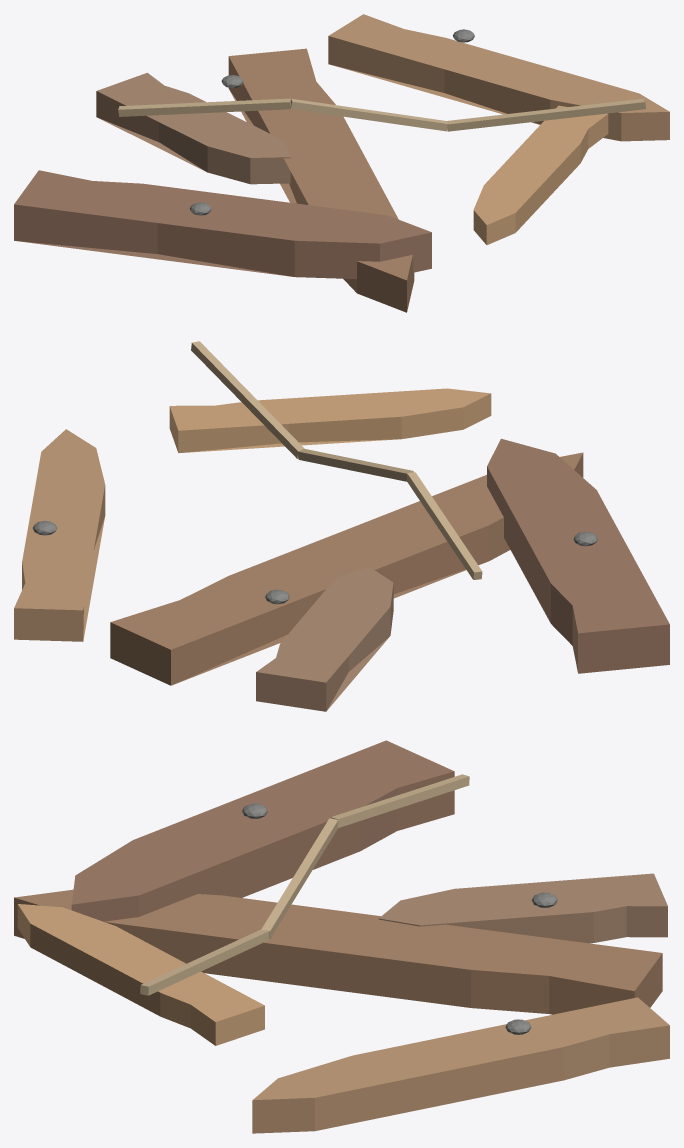
File: floating_plank_cluster.glb
3 views of the same model, one above another, from view 1: azimuth 30°, elevation 25°; view 2: azimuth 150°, elevation 25°; view 3: azimuth 270°, elevation 25° (orthographic). The views are drawn at different scales.
Visible parts, largest first — view 1: Floating_Broken_Plank_3, Floating_Broken_Plank_2, Floating_Broken_Plank_1, Floating_Broken_Plank_5, Floating_Broken_Plank_4, Rope_Segment_2, Rope_Segment_0, Rope_Segment_1; view 2: Floating_Broken_Plank_1, Floating_Broken_Plank_3, Floating_Broken_Plank_2, Floating_Broken_Plank_4, Floating_Broken_Plank_5, Rope_Segment_2, Rope_Segment_0, Rope_Segment_1; view 3: Floating_Broken_Plank_1, Floating_Broken_Plank_3, Floating_Broken_Plank_2, Floating_Broken_Plank_4, Floating_Broken_Plank_5, Rope_Segment_2, Rope_Segment_0, Rope_Segment_1.
Boxes of the visible parts, x1,y1,x2,y2 form: Floating_Broken_Plank_3: (14, 170, 431, 279); Floating_Broken_Plank_2: (328, 14, 669, 141); Floating_Broken_Plank_1: (228, 48, 414, 312); Floating_Broken_Plank_5: (96, 72, 290, 184); Floating_Broken_Plank_4: (473, 105, 608, 244); Rope_Segment_2: (447, 98, 645, 131); Rope_Segment_0: (118, 98, 290, 116); Rope_Segment_1: (290, 98, 448, 131); Floating_Broken_Plank_1: (110, 452, 583, 685); Floating_Broken_Plank_3: (487, 438, 669, 673); Floating_Broken_Plank_2: (14, 429, 105, 641); Floating_Broken_Plank_4: (169, 388, 491, 453); Floating_Broken_Plank_5: (256, 567, 393, 711); Rope_Segment_2: (191, 341, 304, 458); Rope_Segment_0: (406, 472, 482, 579); Rope_Segment_1: (297, 448, 413, 481); Floating_Broken_Plank_1: (14, 889, 662, 1014); Floating_Broken_Plank_3: (71, 740, 454, 921); Floating_Broken_Plank_2: (252, 997, 669, 1133); Floating_Broken_Plank_4: (17, 904, 264, 1045); Floating_Broken_Plank_5: (378, 873, 667, 943); Rope_Segment_2: (140, 929, 269, 995); Rope_Segment_0: (330, 774, 469, 827); Rope_Segment_1: (261, 818, 338, 938).
Bounding box in the file's own units: 1.55 × 0.2693 × 1.25.
